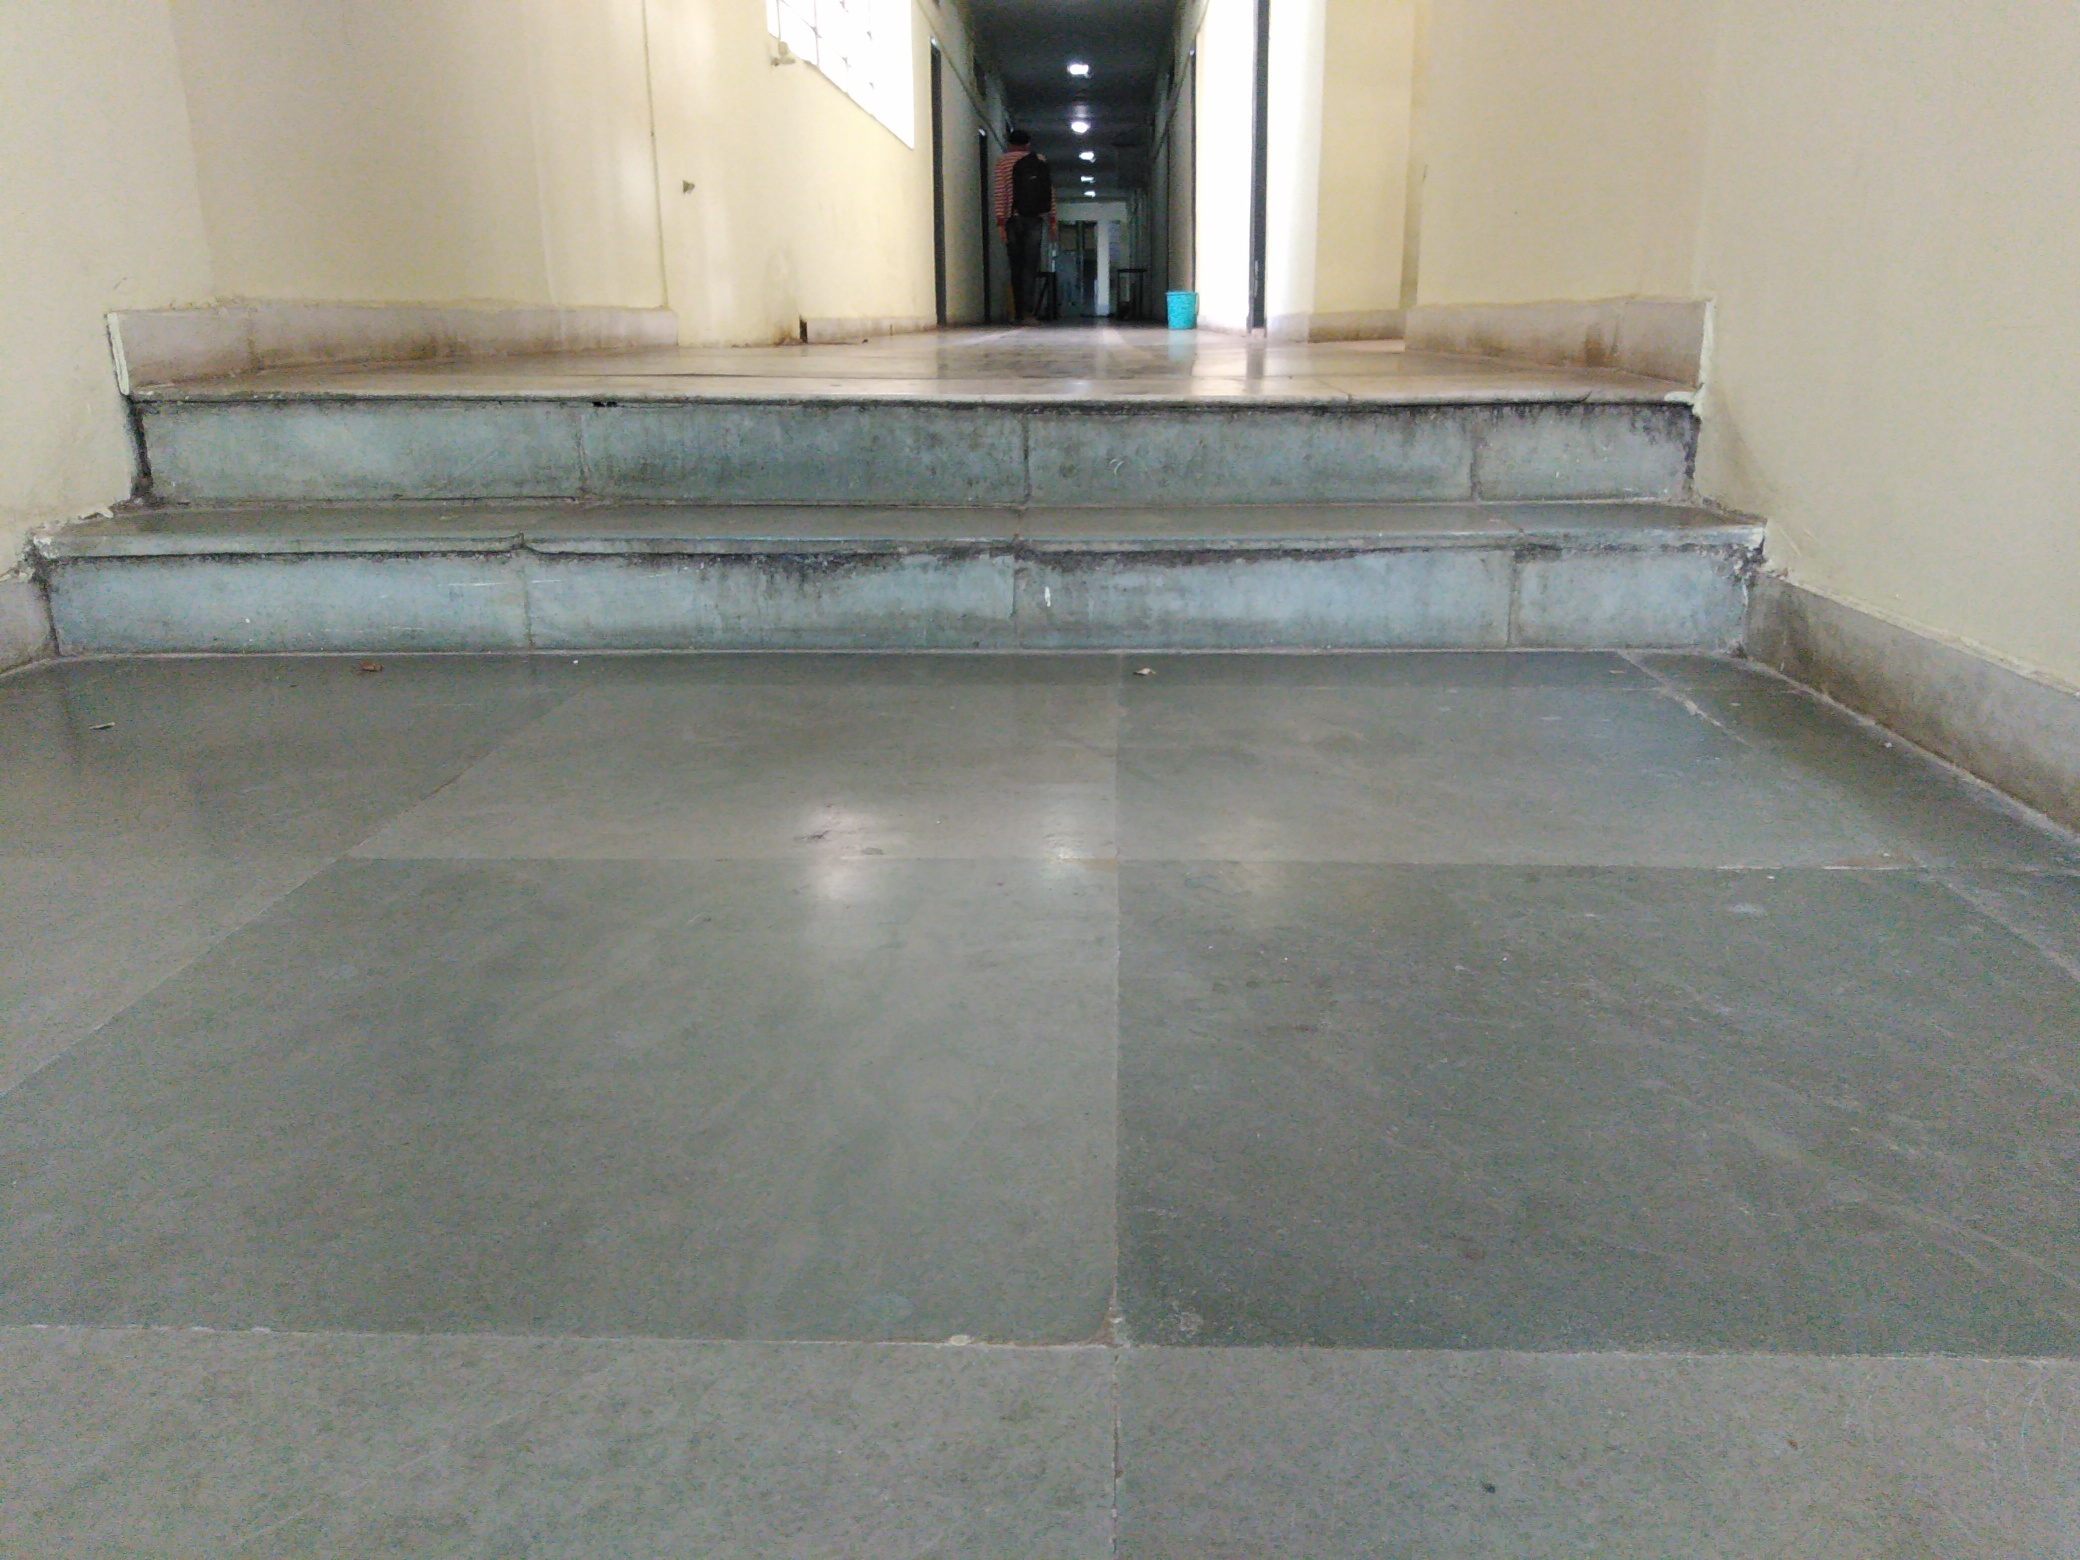stairs_up: (29, 380, 1757, 718)
